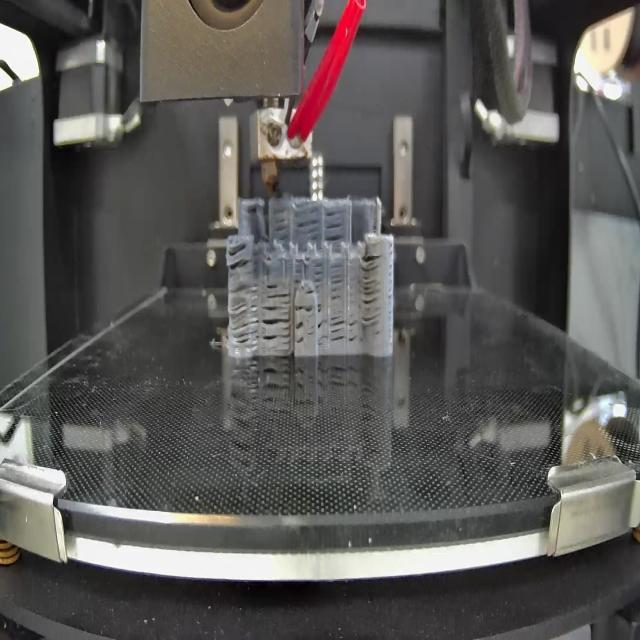cracks: (230, 284, 259, 347), (360, 250, 382, 329), (262, 304, 291, 348), (331, 312, 360, 344), (294, 209, 322, 241), (227, 244, 255, 272), (324, 208, 346, 242), (330, 261, 346, 305), (266, 280, 292, 302), (273, 209, 291, 240), (318, 300, 328, 345), (293, 256, 305, 285), (314, 258, 326, 287), (294, 302, 318, 315), (296, 321, 306, 347), (303, 290, 317, 297)
